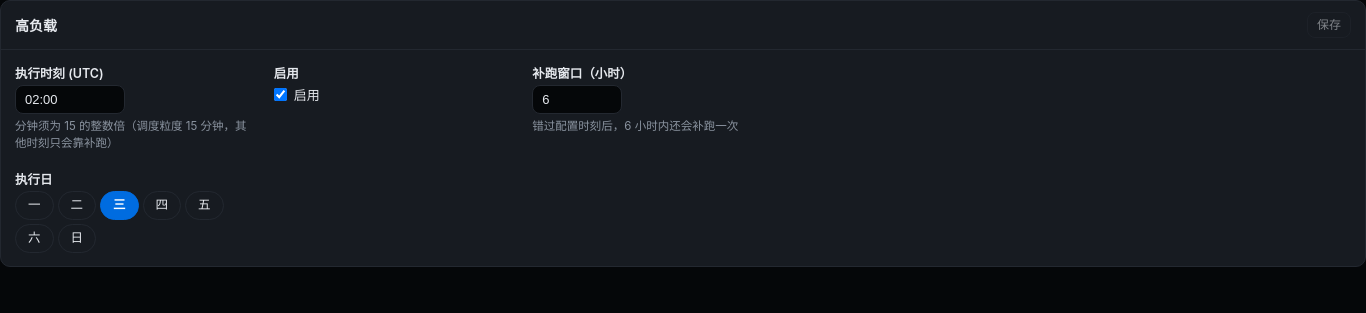
执行日：保存时的换算 › ★★★ 点灭最后一天被**拒**，并给出为什么
Step 1. Click the button "三" → (119, 205), box [100,190,138,220]
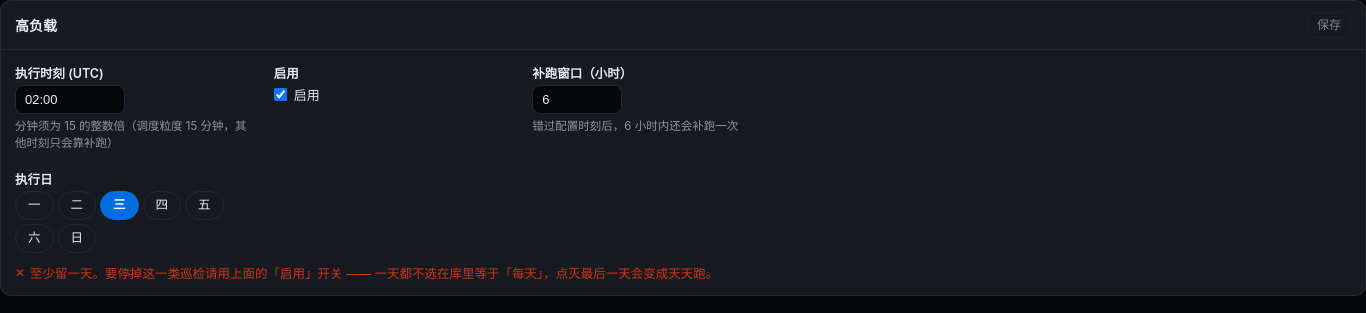
Now the text "至少留一天。要停掉这一类巡检请用上面的「启用」开关 —— 一天都不选在库里等于「每天」，点灭最后一天会变成天天跑。" is shown, box [30,263,718,282]
